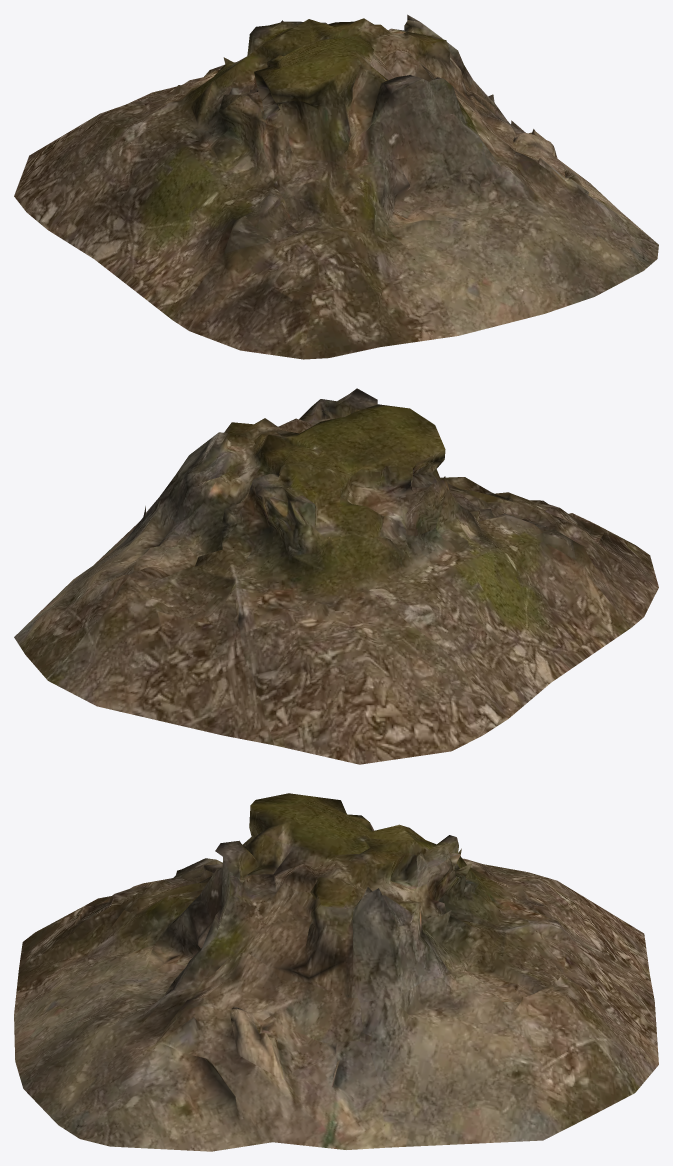
File: tocon.glb
3 renders of one model, top to bottom at view 1: azimuth 30°, elevation 25°; view 2: azimuth 150°, elevation 25°; view 3: azimuth 270°, elevation 25°, orthographic. The views are drawn at different scales.
Parts seen in each view (by area): view 1: tree_stump_01; view 2: tree_stump_01; view 3: tree_stump_01.
Part boxes in pixels (left/top/right/bottom): tree_stump_01: left=14, top=14, right=658, bottom=359; tree_stump_01: left=14, top=388, right=658, bottom=764; tree_stump_01: left=14, top=793, right=658, bottom=1151.
Bounding box in the file's own units: 1.43 × 0.571 × 1.59.
Materials: 1 (1 with a texture image).
